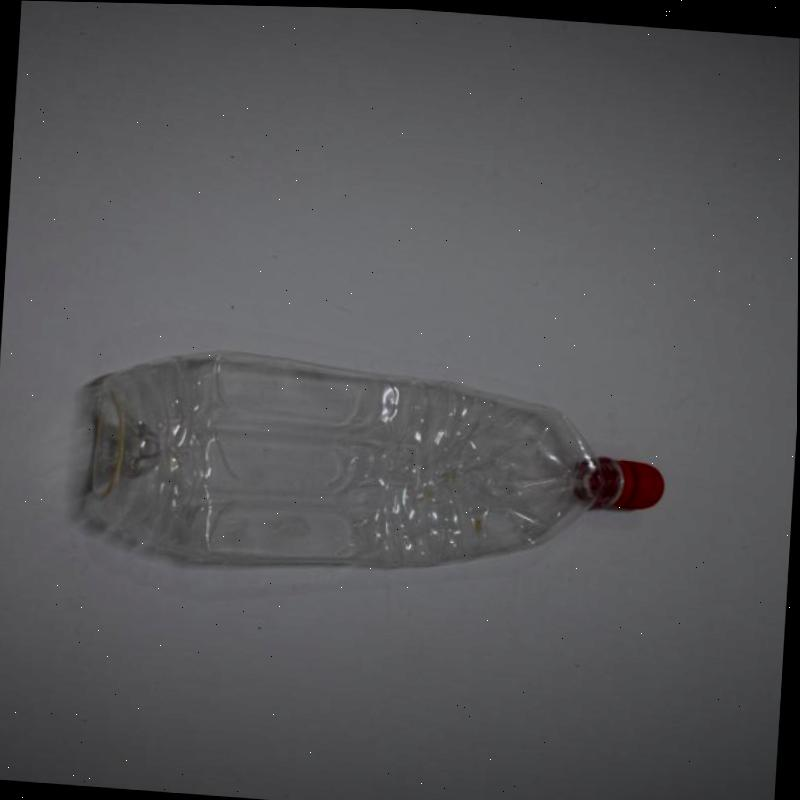botella: (77, 339, 675, 600)
